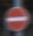No entry: (6, 6, 28, 31)
